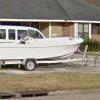Boat: (1, 31, 87, 74)
